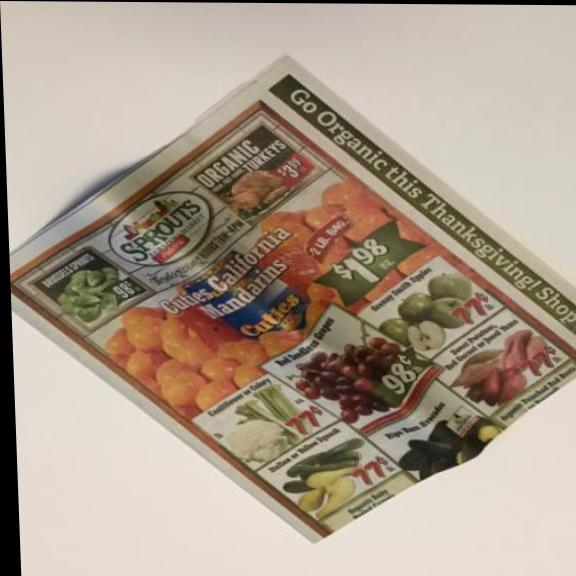Kertas: (3, 44, 576, 552)
